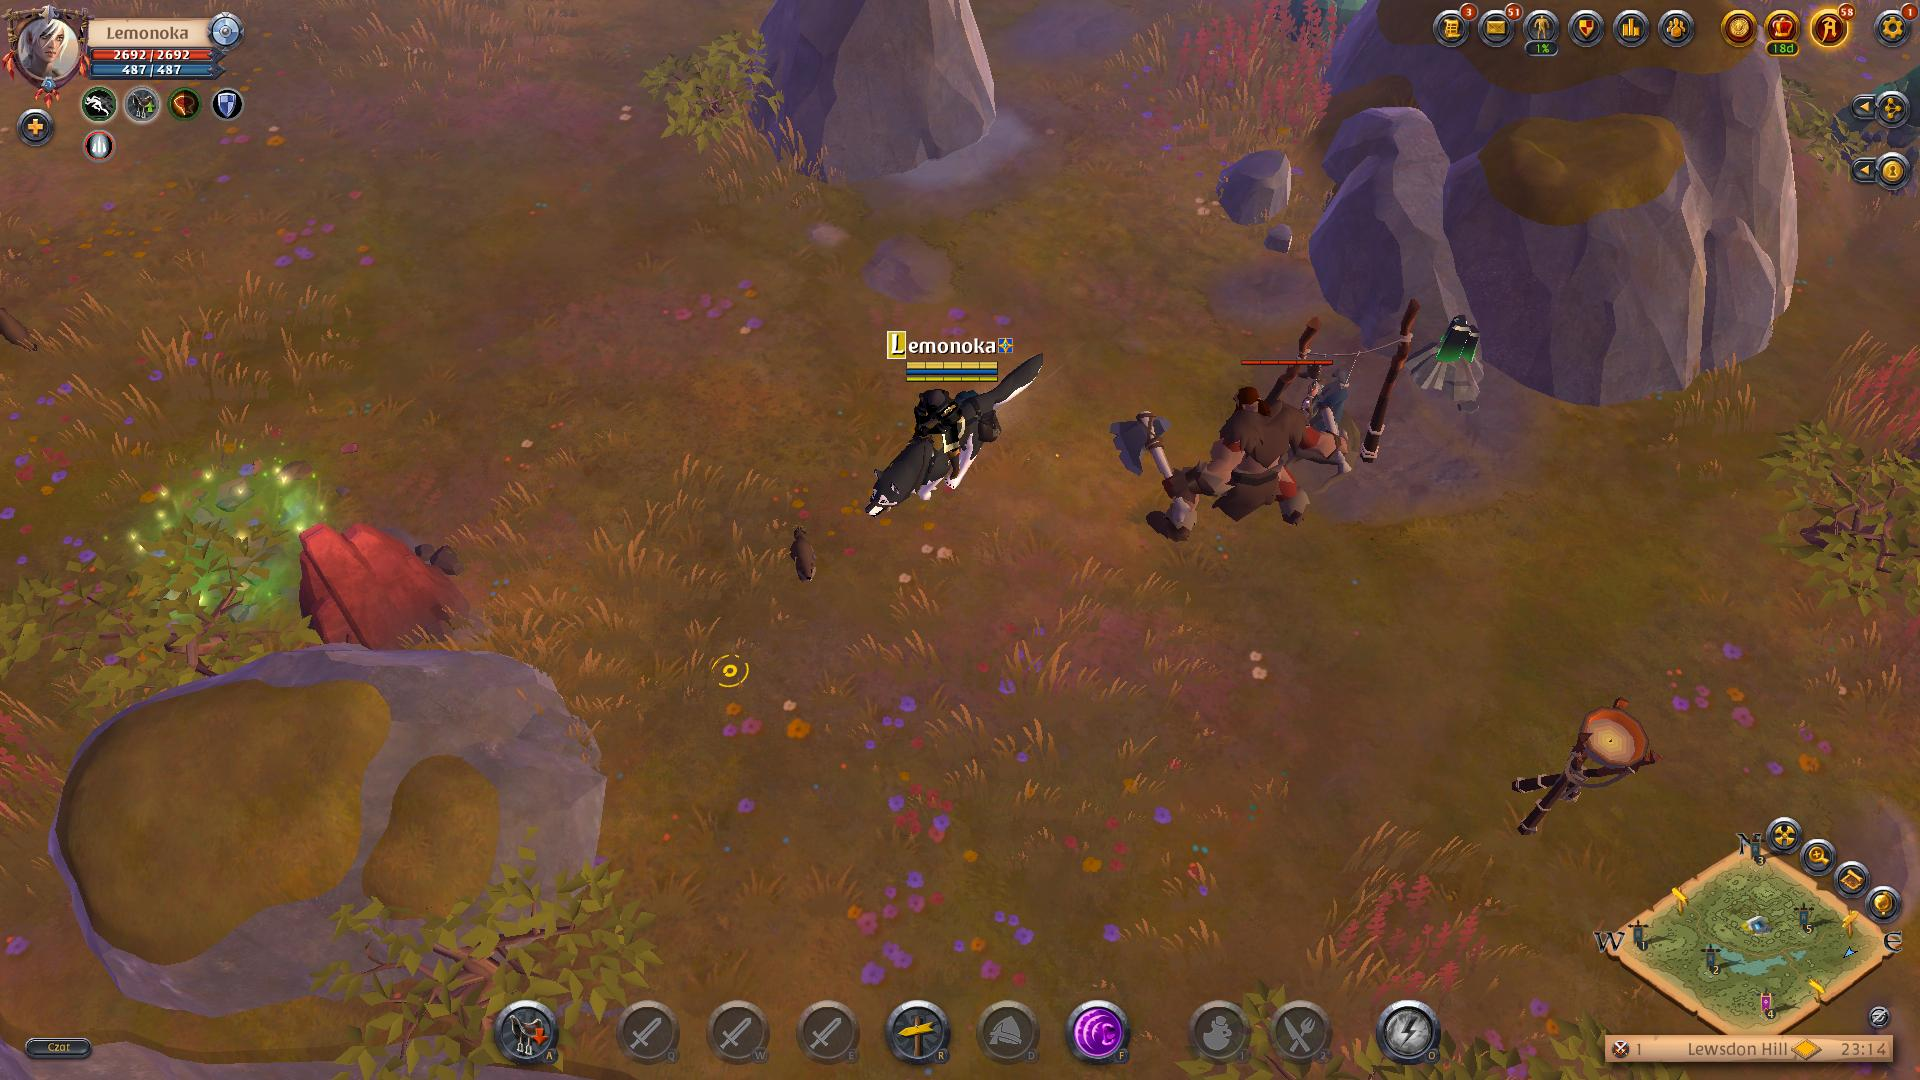ore tier 3: (1410, 311, 1490, 406)
rock tier 5: (293, 522, 472, 662)
